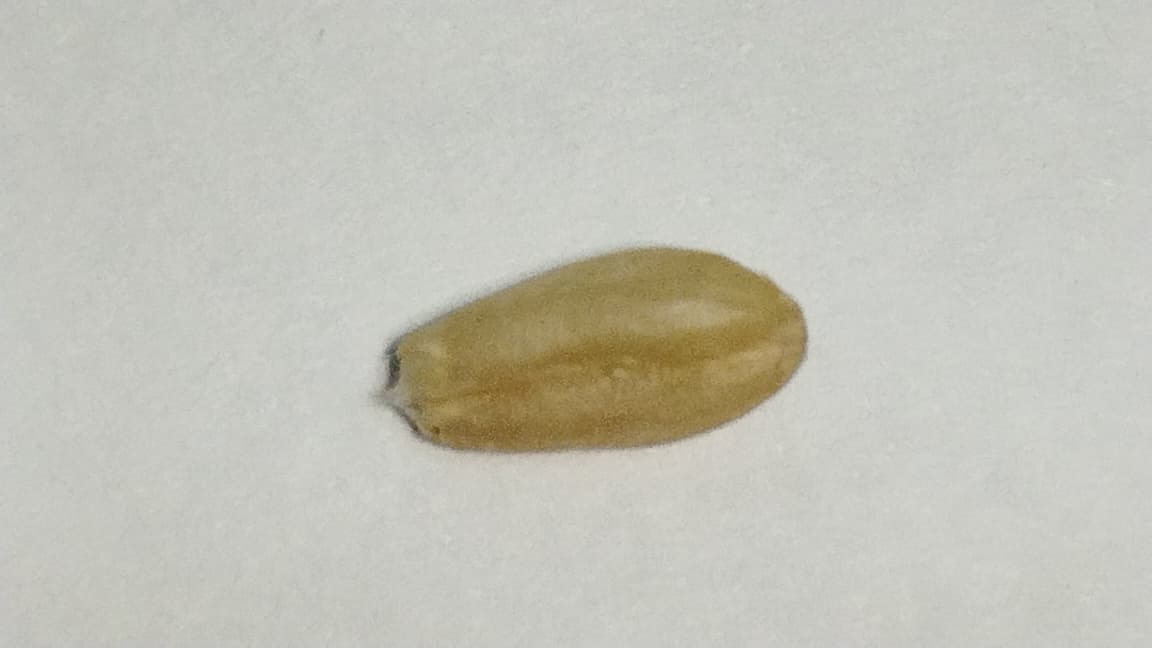healthy: (386, 246, 806, 451)
